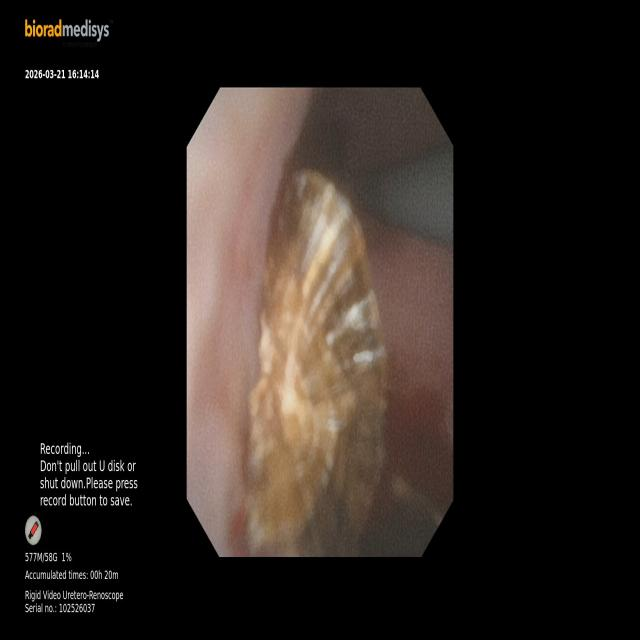stone-new: (246, 170, 387, 555)
